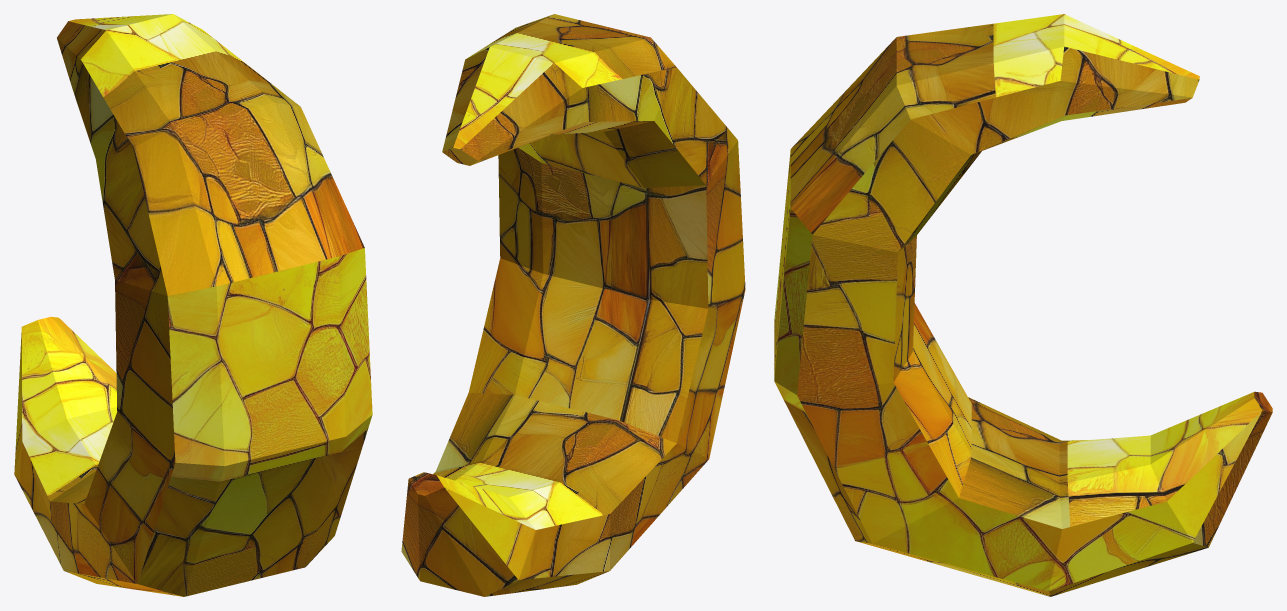
Rendered from gemstone9Yellow.glb.
The picture shows the model from 3 angles, left to right: view 1: azimuth 30°, elevation 25°; view 2: azimuth 150°, elevation 25°; view 3: azimuth 270°, elevation 25°; orthographic projection. The views are drawn at different scales.
Visible parts, largest first — view 1: gemstoneMoon; view 2: gemstoneMoon; view 3: gemstoneMoon.
Boxes of the visible parts, x1,y1,x2,y2 form: gemstoneMoon: [14, 14, 372, 596]; gemstoneMoon: [401, 14, 745, 596]; gemstoneMoon: [774, 14, 1272, 596].
Bounding box in the file's own units: 0.5 × 1.2 × 1.
Materials: 1 (1 with a texture image).
